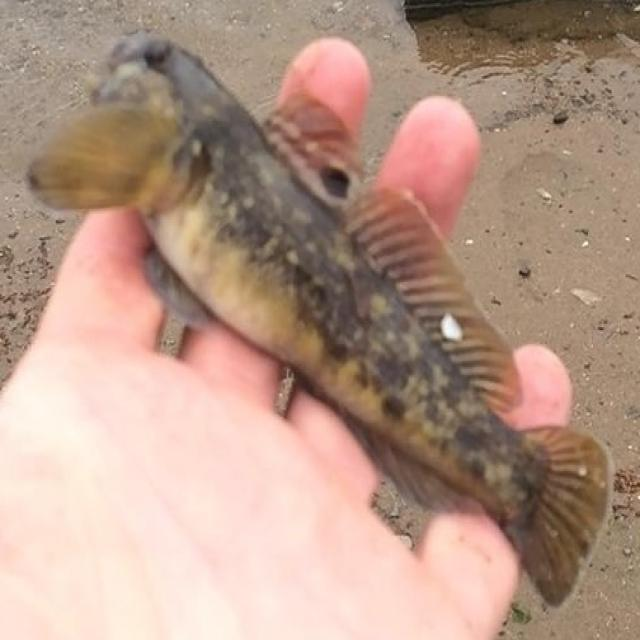Goby: (54, 16, 598, 599)
